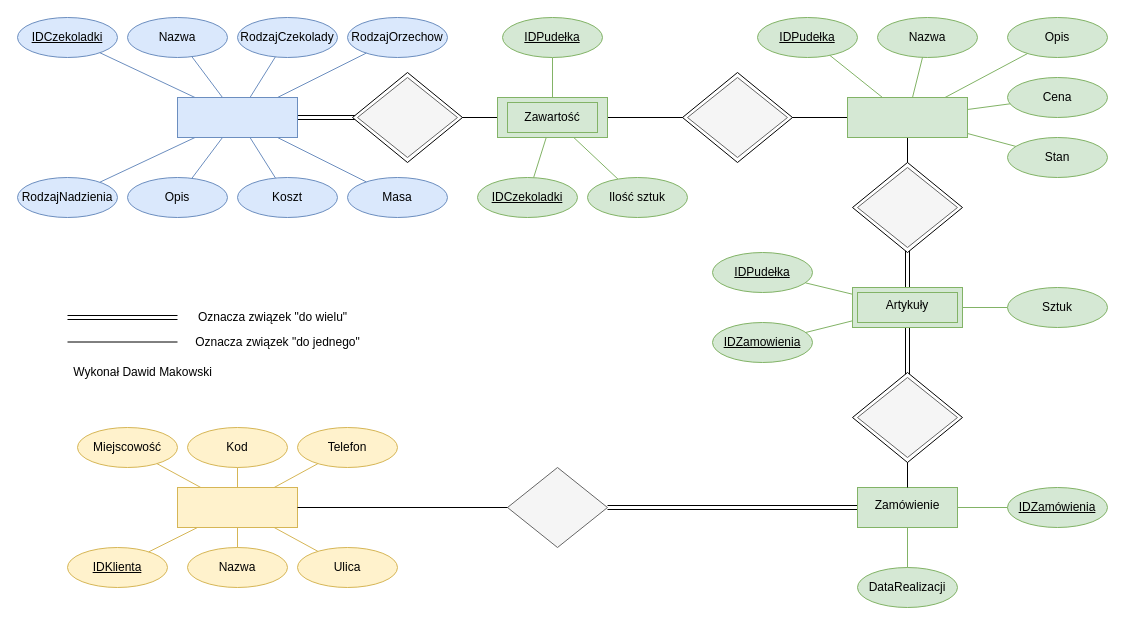
The diagram is 1125 pixels wide and 625 high, and some of its shapes have lost their labels. Here are the shapes that lost their labels. From the top down, the box of each, then its label:
(176, 96, 298, 138): Czekoladki
(356, 76, 458, 158): Wspólnie jako
(686, 76, 788, 158): Zawarta w
(846, 96, 968, 138): Pudełko
(856, 166, 958, 248): Zawiera
(856, 376, 958, 458): Zawarte w
(176, 486, 298, 528): Klient
(506, 466, 608, 548): Złożone do
